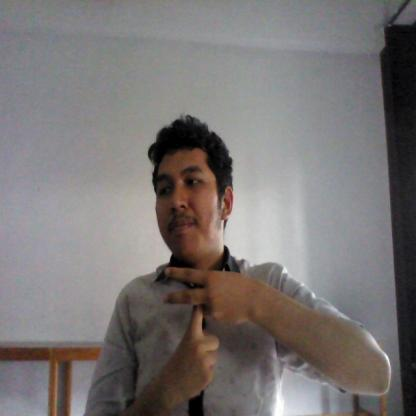F: (159, 264, 253, 395)
